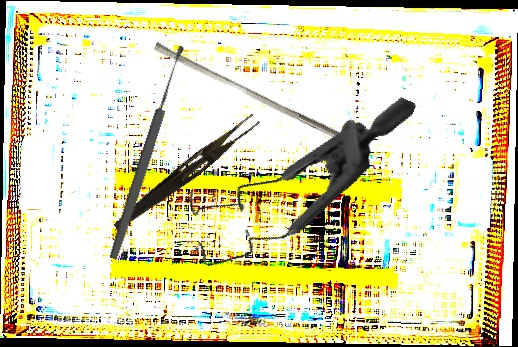Dressing Forceps: (111, 108, 261, 238)
Pusher: (150, 41, 365, 150)
Speculum: (165, 32, 417, 317)
Surgical Spoon: (106, 44, 189, 261)
